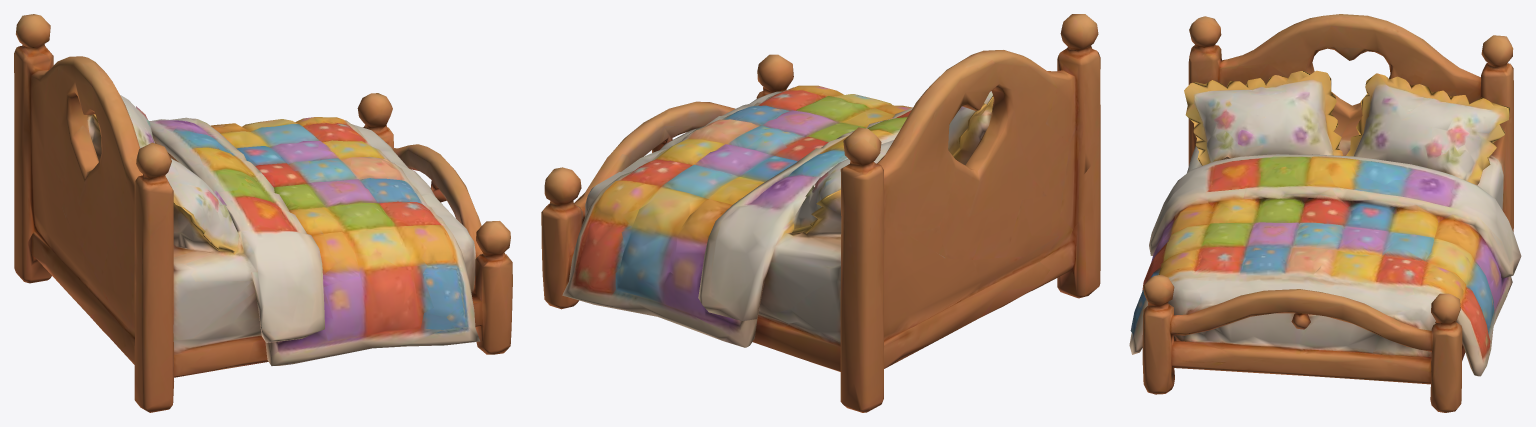
Rendered from cozy_bed.glb.
3 renders of one model, left to right at view 1: azimuth 30°, elevation 25°; view 2: azimuth 150°, elevation 25°; view 3: azimuth 270°, elevation 25°, orthographic. The views are drawn at different scales.
Visible parts, largest first — view 1: tripo_node_5241b628-eda7-4deb-a32e-83a027546170; view 2: tripo_node_5241b628-eda7-4deb-a32e-83a027546170; view 3: tripo_node_5241b628-eda7-4deb-a32e-83a027546170.
Part boxes in pixels (x1,y1,x2,y2): tripo_node_5241b628-eda7-4deb-a32e-83a027546170: (14, 14, 512, 412); tripo_node_5241b628-eda7-4deb-a32e-83a027546170: (541, 14, 1100, 412); tripo_node_5241b628-eda7-4deb-a32e-83a027546170: (1129, 14, 1521, 412).
Bounding box in the file's own units: 1.1 × 0.75 × 1.08.
Materials: 1 (1 with a texture image).
